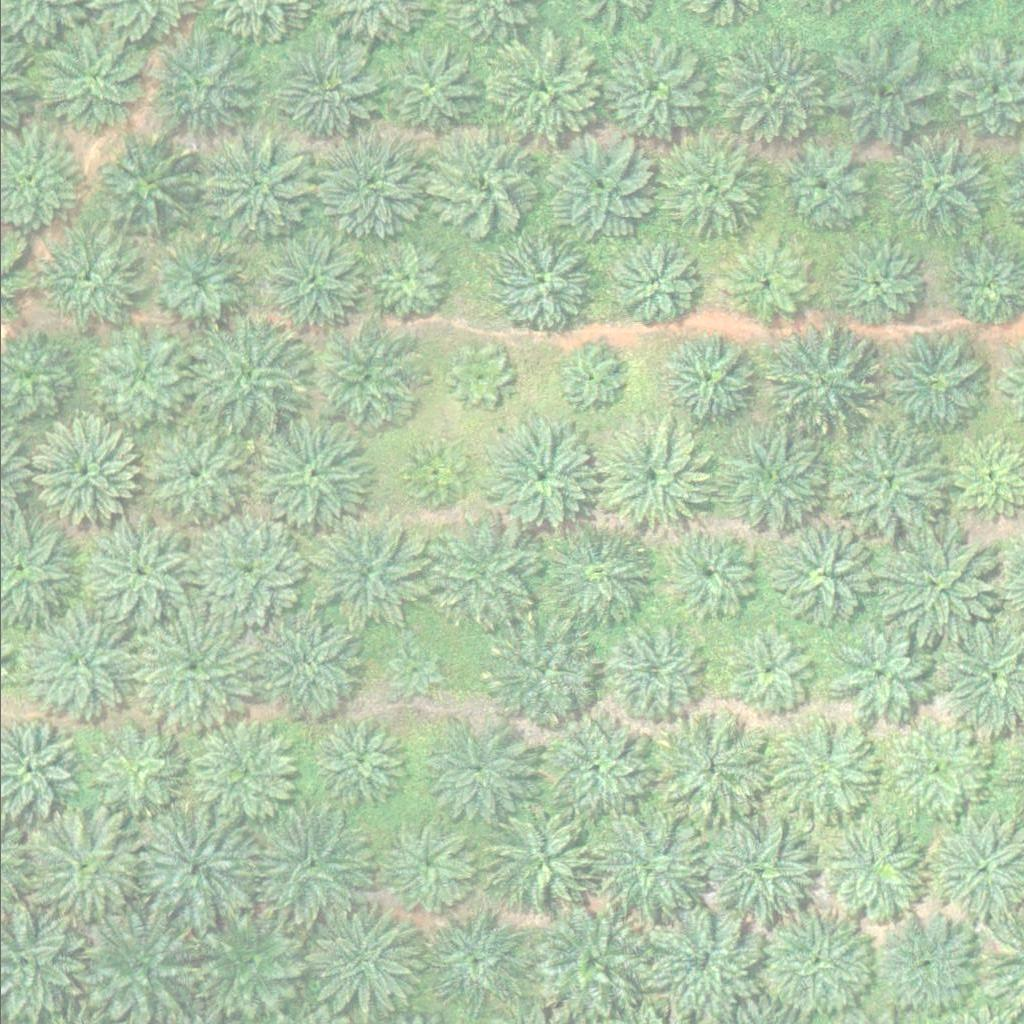Kelapa_Sawit: (874, 329, 988, 442), (761, 321, 875, 434), (195, 903, 309, 1016), (259, 809, 373, 922), (415, 715, 529, 828), (87, 134, 201, 247), (35, 19, 149, 132), (85, 910, 199, 1023), (710, 38, 823, 151), (591, 33, 704, 146), (653, 327, 766, 440), (591, 419, 704, 532), (763, 716, 876, 829), (654, 708, 767, 821), (870, 905, 983, 1018), (586, 813, 699, 926), (487, 804, 600, 917), (138, 809, 251, 922), (535, 713, 648, 826), (314, 512, 427, 625), (191, 516, 304, 629), (480, 421, 593, 534), (254, 418, 367, 531), (425, 126, 538, 239), (312, 130, 425, 243), (197, 131, 310, 244), (487, 31, 600, 144), (367, 33, 480, 146), (24, 418, 137, 531), (79, 511, 192, 624), (25, 810, 138, 923), (829, 427, 943, 539), (717, 424, 831, 536), (649, 521, 763, 633), (480, 615, 594, 727), (537, 518, 651, 630), (147, 29, 261, 141), (831, 38, 944, 150), (884, 131, 997, 243), (653, 128, 766, 240), (880, 528, 993, 640), (767, 522, 880, 634), (699, 816, 812, 928), (756, 904, 869, 1016), (644, 905, 757, 1017), (534, 907, 647, 1019), (422, 903, 535, 1015), (310, 905, 423, 1017), (183, 716, 296, 828), (249, 610, 362, 722), (136, 612, 249, 724), (425, 521, 538, 633), (135, 418, 248, 530), (308, 322, 421, 434), (186, 321, 299, 433), (481, 230, 594, 342), (250, 224, 363, 336), (540, 130, 653, 242), (265, 34, 378, 146), (18, 606, 131, 718), (776, 137, 877, 237), (830, 621, 931, 721), (884, 717, 985, 817), (824, 817, 925, 917), (145, 232, 246, 332), (90, 332, 191, 432), (90, 721, 191, 821), (825, 234, 925, 334), (602, 624, 702, 724), (379, 814, 479, 914), (310, 712, 410, 812), (41, 235, 141, 335), (605, 239, 693, 327), (365, 236, 453, 324), (721, 239, 809, 326), (724, 630, 812, 717), (403, 442, 466, 505), (557, 350, 620, 413), (446, 345, 509, 408), (383, 639, 446, 701)
